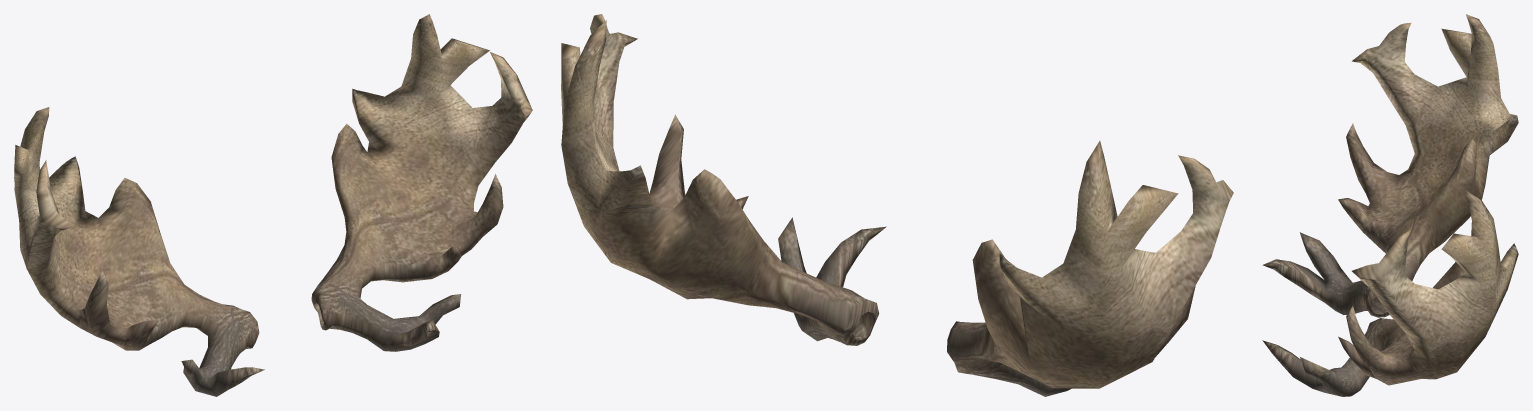
The model's file is mooseantlers-lite.glb.
3 views of the same model, side by side, from view 1: azimuth 30°, elevation 25°; view 2: azimuth 150°, elevation 25°; view 3: azimuth 270°, elevation 25° (orthographic). The views are drawn at different scales.
Parts seen in each view (by area): view 1: mooseantlers; view 2: mooseantlers; view 3: mooseantlers.
Part boxes in pixels (x1=…): mooseantlers: x1=14, y1=14, x2=532, y2=396; mooseantlers: x1=561, y1=14, x2=1233, y2=396; mooseantlers: x1=1262, y1=14, x2=1518, y2=396.
Bounding box in the file's own units: 0.7231 × 0.3773 × 0.3458.
1 material, 1 textured.
